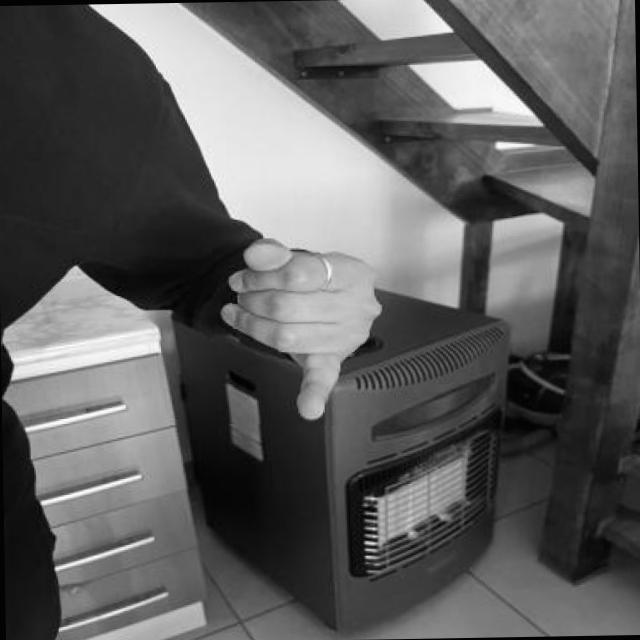Z: (212, 236, 390, 428)
